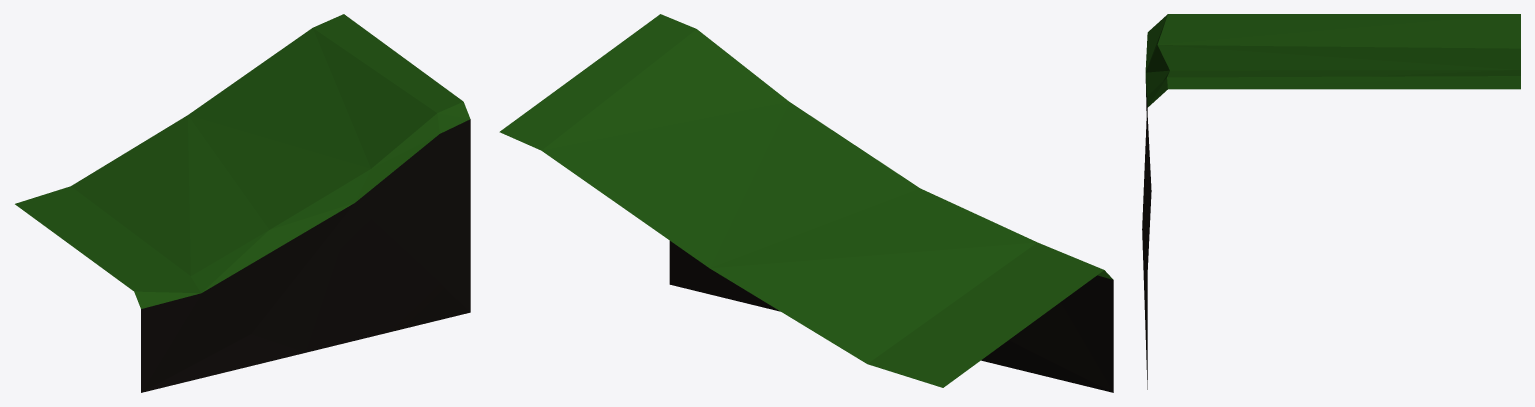
Rendered from 2D_Ground_Top_2up.fbx.
3 renders of one model, left to right at view 1: azimuth 30°, elevation 25°; view 2: azimuth 150°, elevation 25°; view 3: azimuth 270°, elevation 25°, orthographic. The views are drawn at different scales.
Visible parts, largest first — view 1: 2D_Ground_Top_2up; view 2: 2D_Ground_Top_2up; view 3: 2D_Ground_Top_2up.
Boxes of the visible parts, x1,y1,x2,y2 form: 2D_Ground_Top_2up: [15, 14, 470, 392]; 2D_Ground_Top_2up: [499, 14, 1113, 392]; 2D_Ground_Top_2up: [1142, 14, 1520, 389].
Bounding box in the file's own units: 1303 × 778 × 880.
